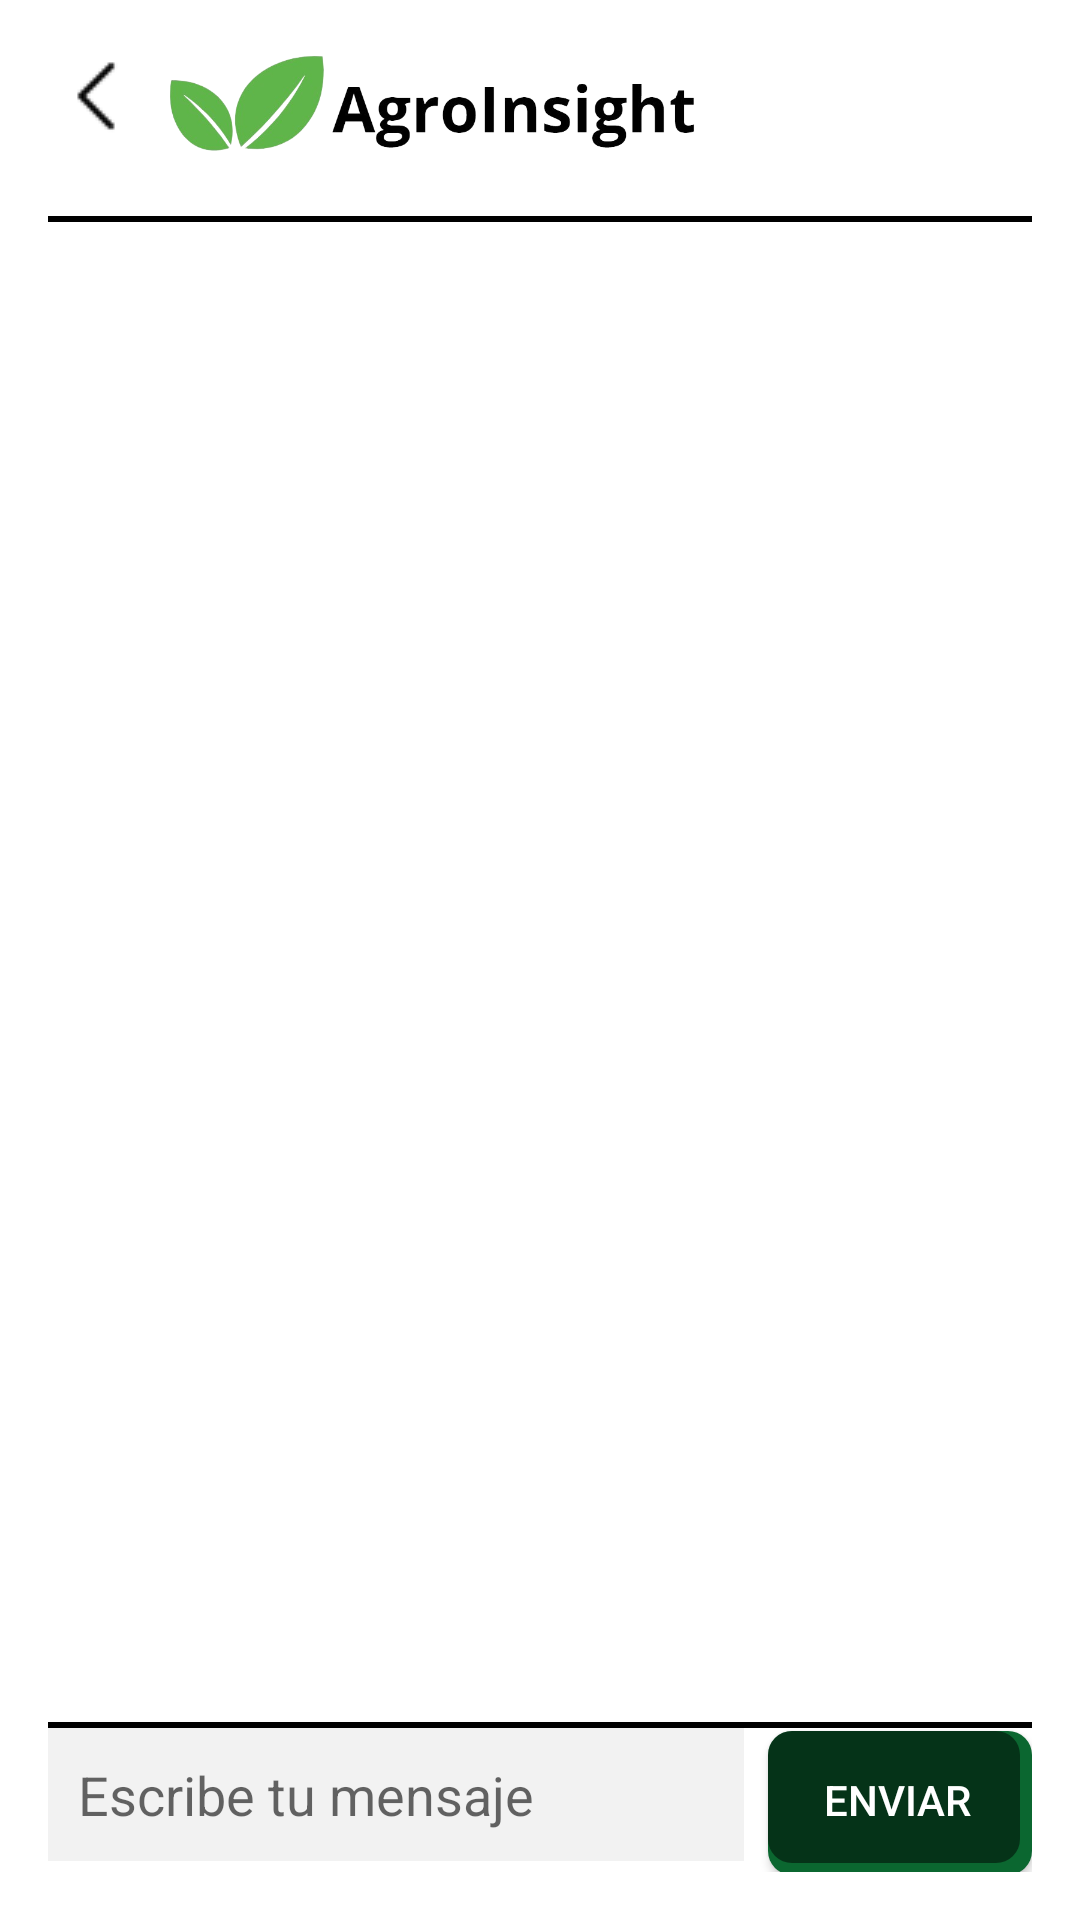

Icons on this 1080px×1920px Android screen, each with the point to tap as (x=x, y=y):
arrow back: (x=96, y=96)
